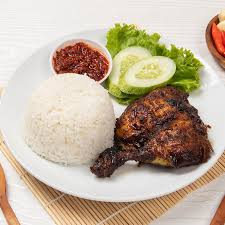Ayam goreng: (90, 84, 213, 183)
Nasi putih: (21, 71, 117, 163)
